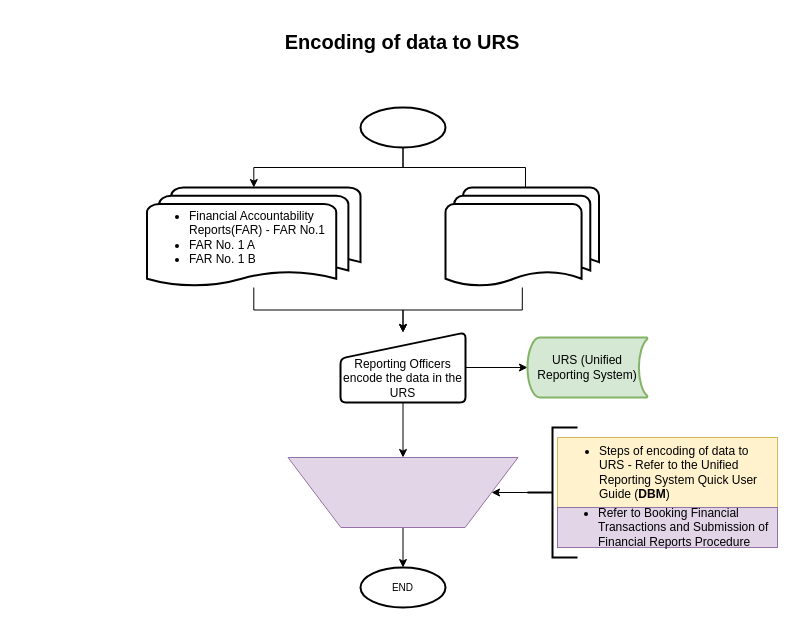
Some shapes in this 804 by 625 pixel diagram are drawn without their labels. Here are the shapes that lost their labels. From the top down, the box of each, then its label:
(359, 106, 446, 148): START
(444, 186, 600, 288): FAR No. 2 A FAR No.1-C FAR No.6
(287, 456, 518, 528): Informs Accounting Office to complete data needed in the URS
